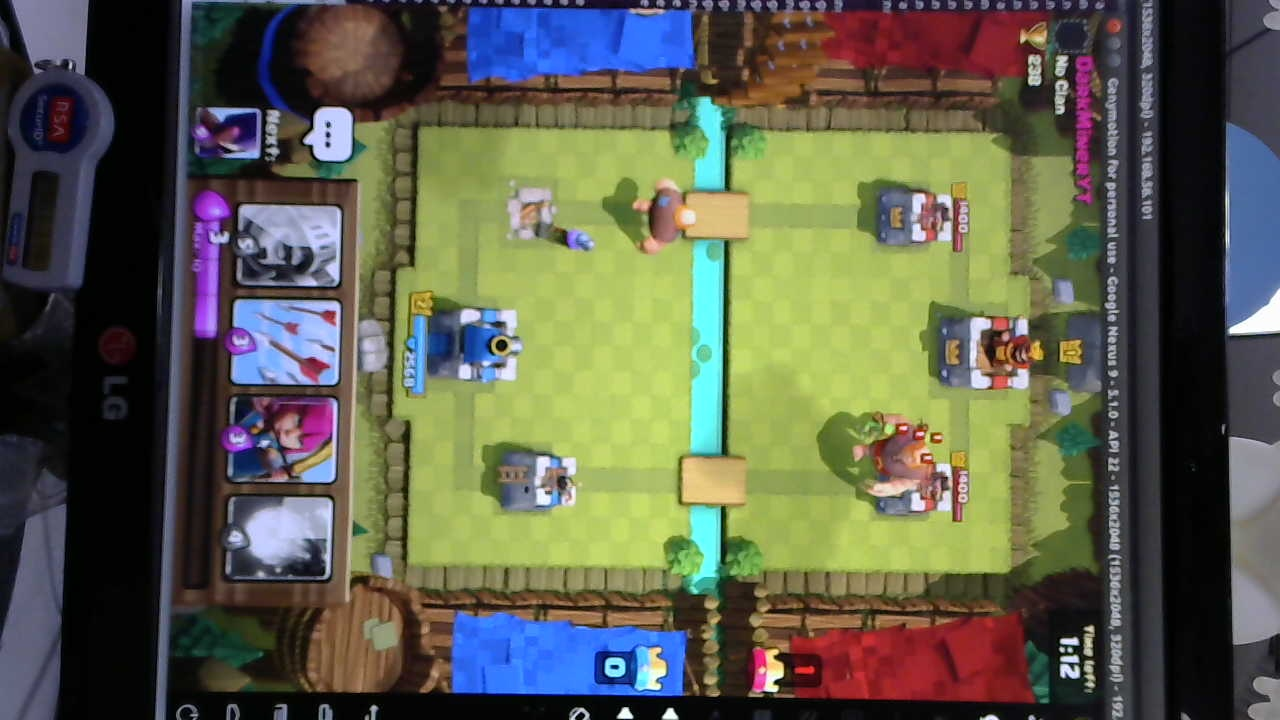arena: (494, 448, 580, 514)
darena: (500, 180, 560, 244)
earena: (871, 187, 957, 250), (876, 460, 955, 518)
eking: (928, 313, 1043, 393)
giant: (854, 407, 933, 498), (634, 174, 696, 258)
king: (421, 303, 522, 381)
musketeer: (539, 223, 596, 258)
speargoblin: (843, 412, 894, 450)
